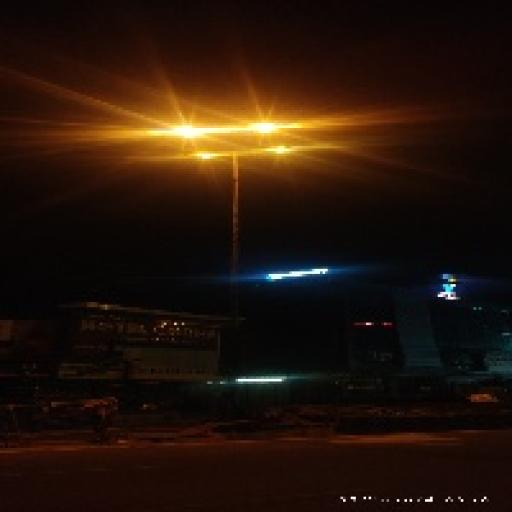Working: (237, 118, 298, 139), (165, 119, 205, 142), (264, 142, 296, 158), (191, 148, 217, 163)
